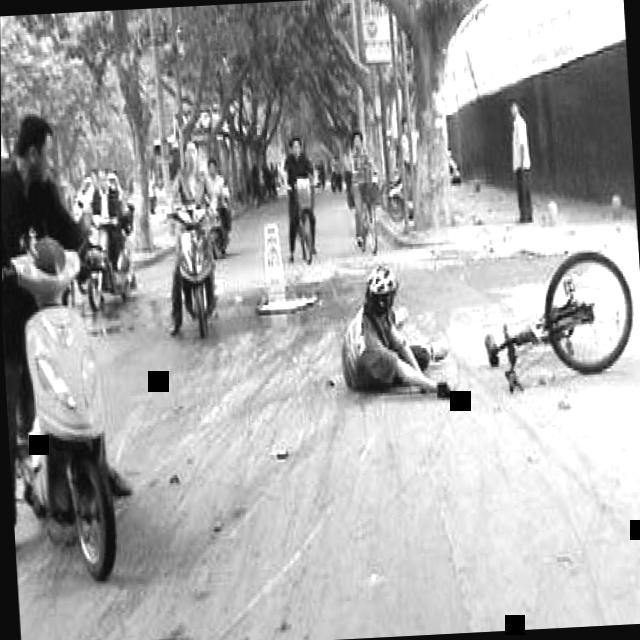Fall-Detected: (328, 244, 459, 413)
